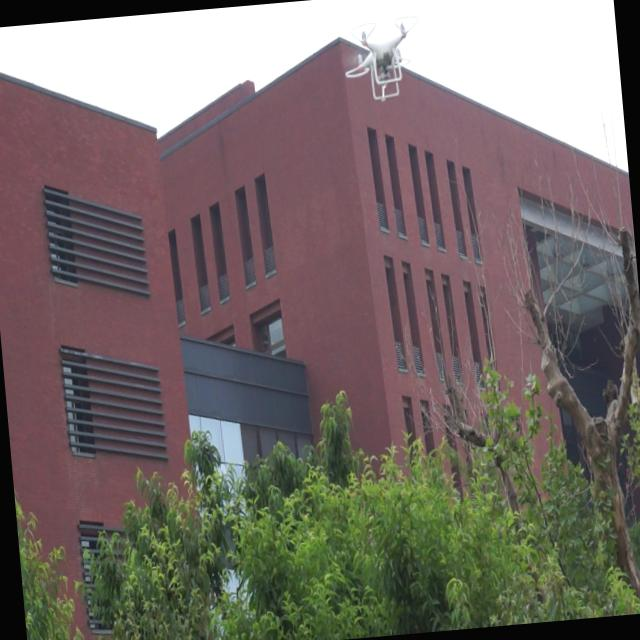drone: (338, 11, 425, 105)
